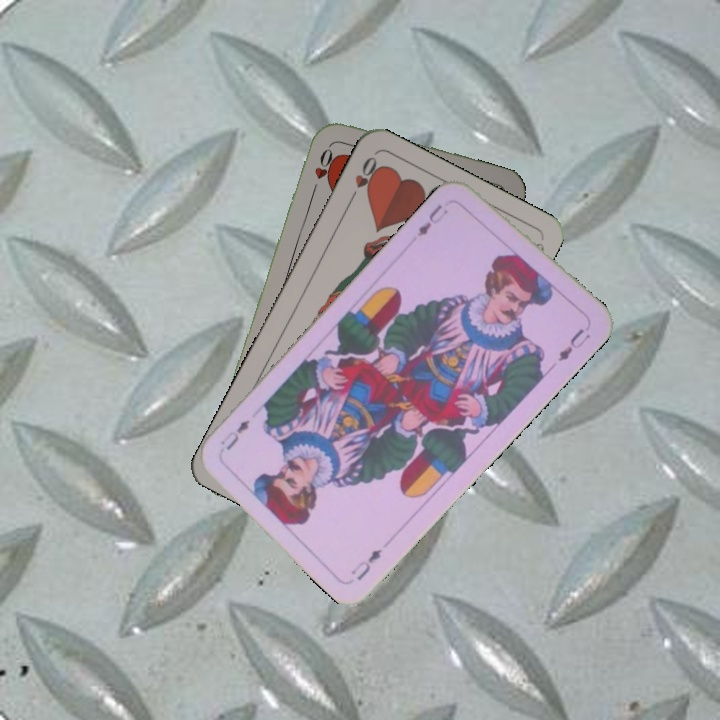EU: (346, 545, 385, 584), (413, 200, 451, 239)
HO: (344, 152, 383, 206), (307, 140, 336, 197)
